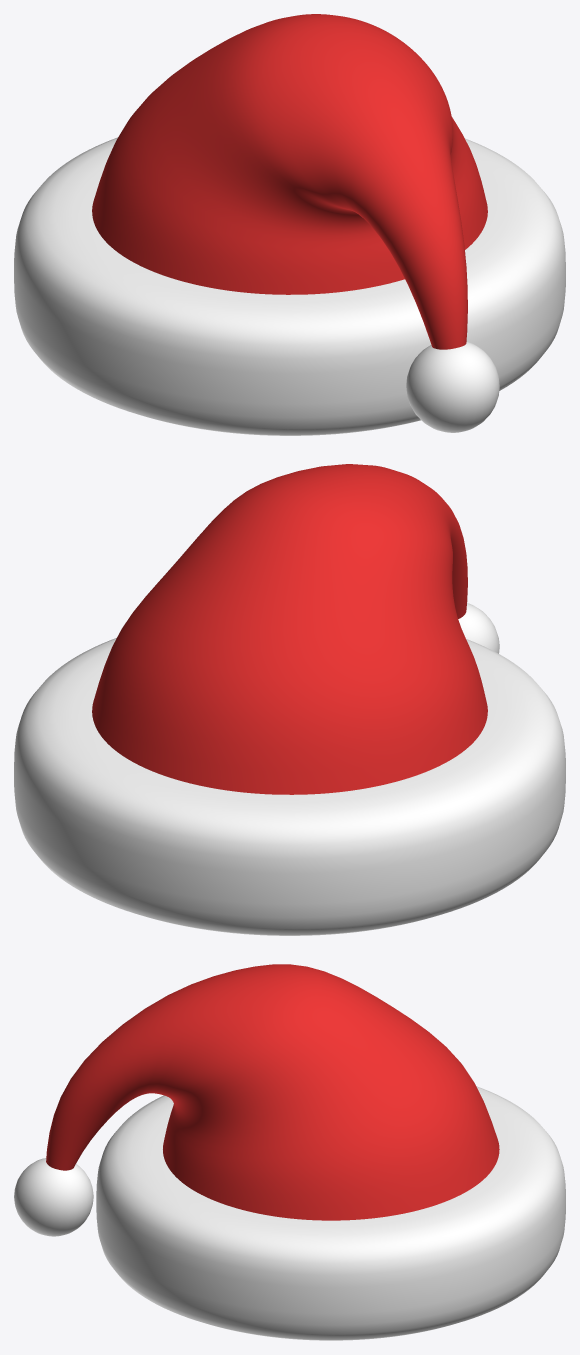
The model's file is SantaHat.fbx.
The picture shows the model from 3 angles, top to bottom: view 1: azimuth 30°, elevation 25°; view 2: azimuth 150°, elevation 25°; view 3: azimuth 270°, elevation 25°; orthographic projection. The views are drawn at different scales.
Parts seen in each view (by area): view 1: Hat; view 2: Hat; view 3: Hat.
Part boxes in pixels (x1,y1,x2,y2): Hat: (14,14,565,435); Hat: (14,464,565,935); Hat: (14,964,565,1340).
Bounding box in the file's own units: 294 × 191 × 345.
